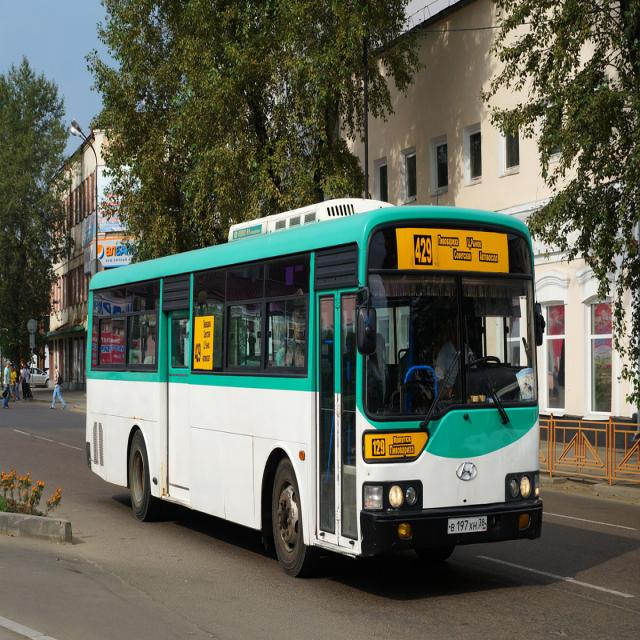number-of-bus: (415, 238, 433, 266)
